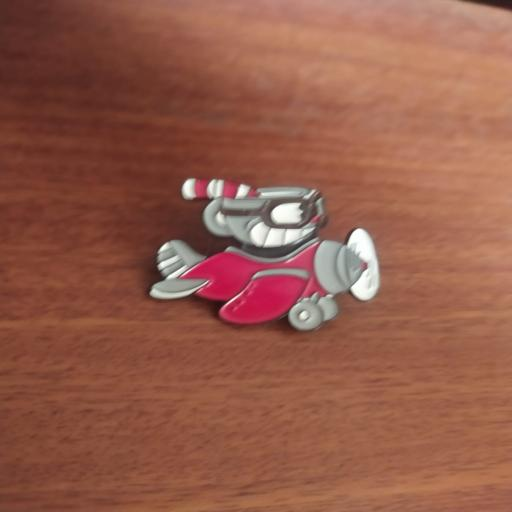Pin: (131, 165, 392, 337)
